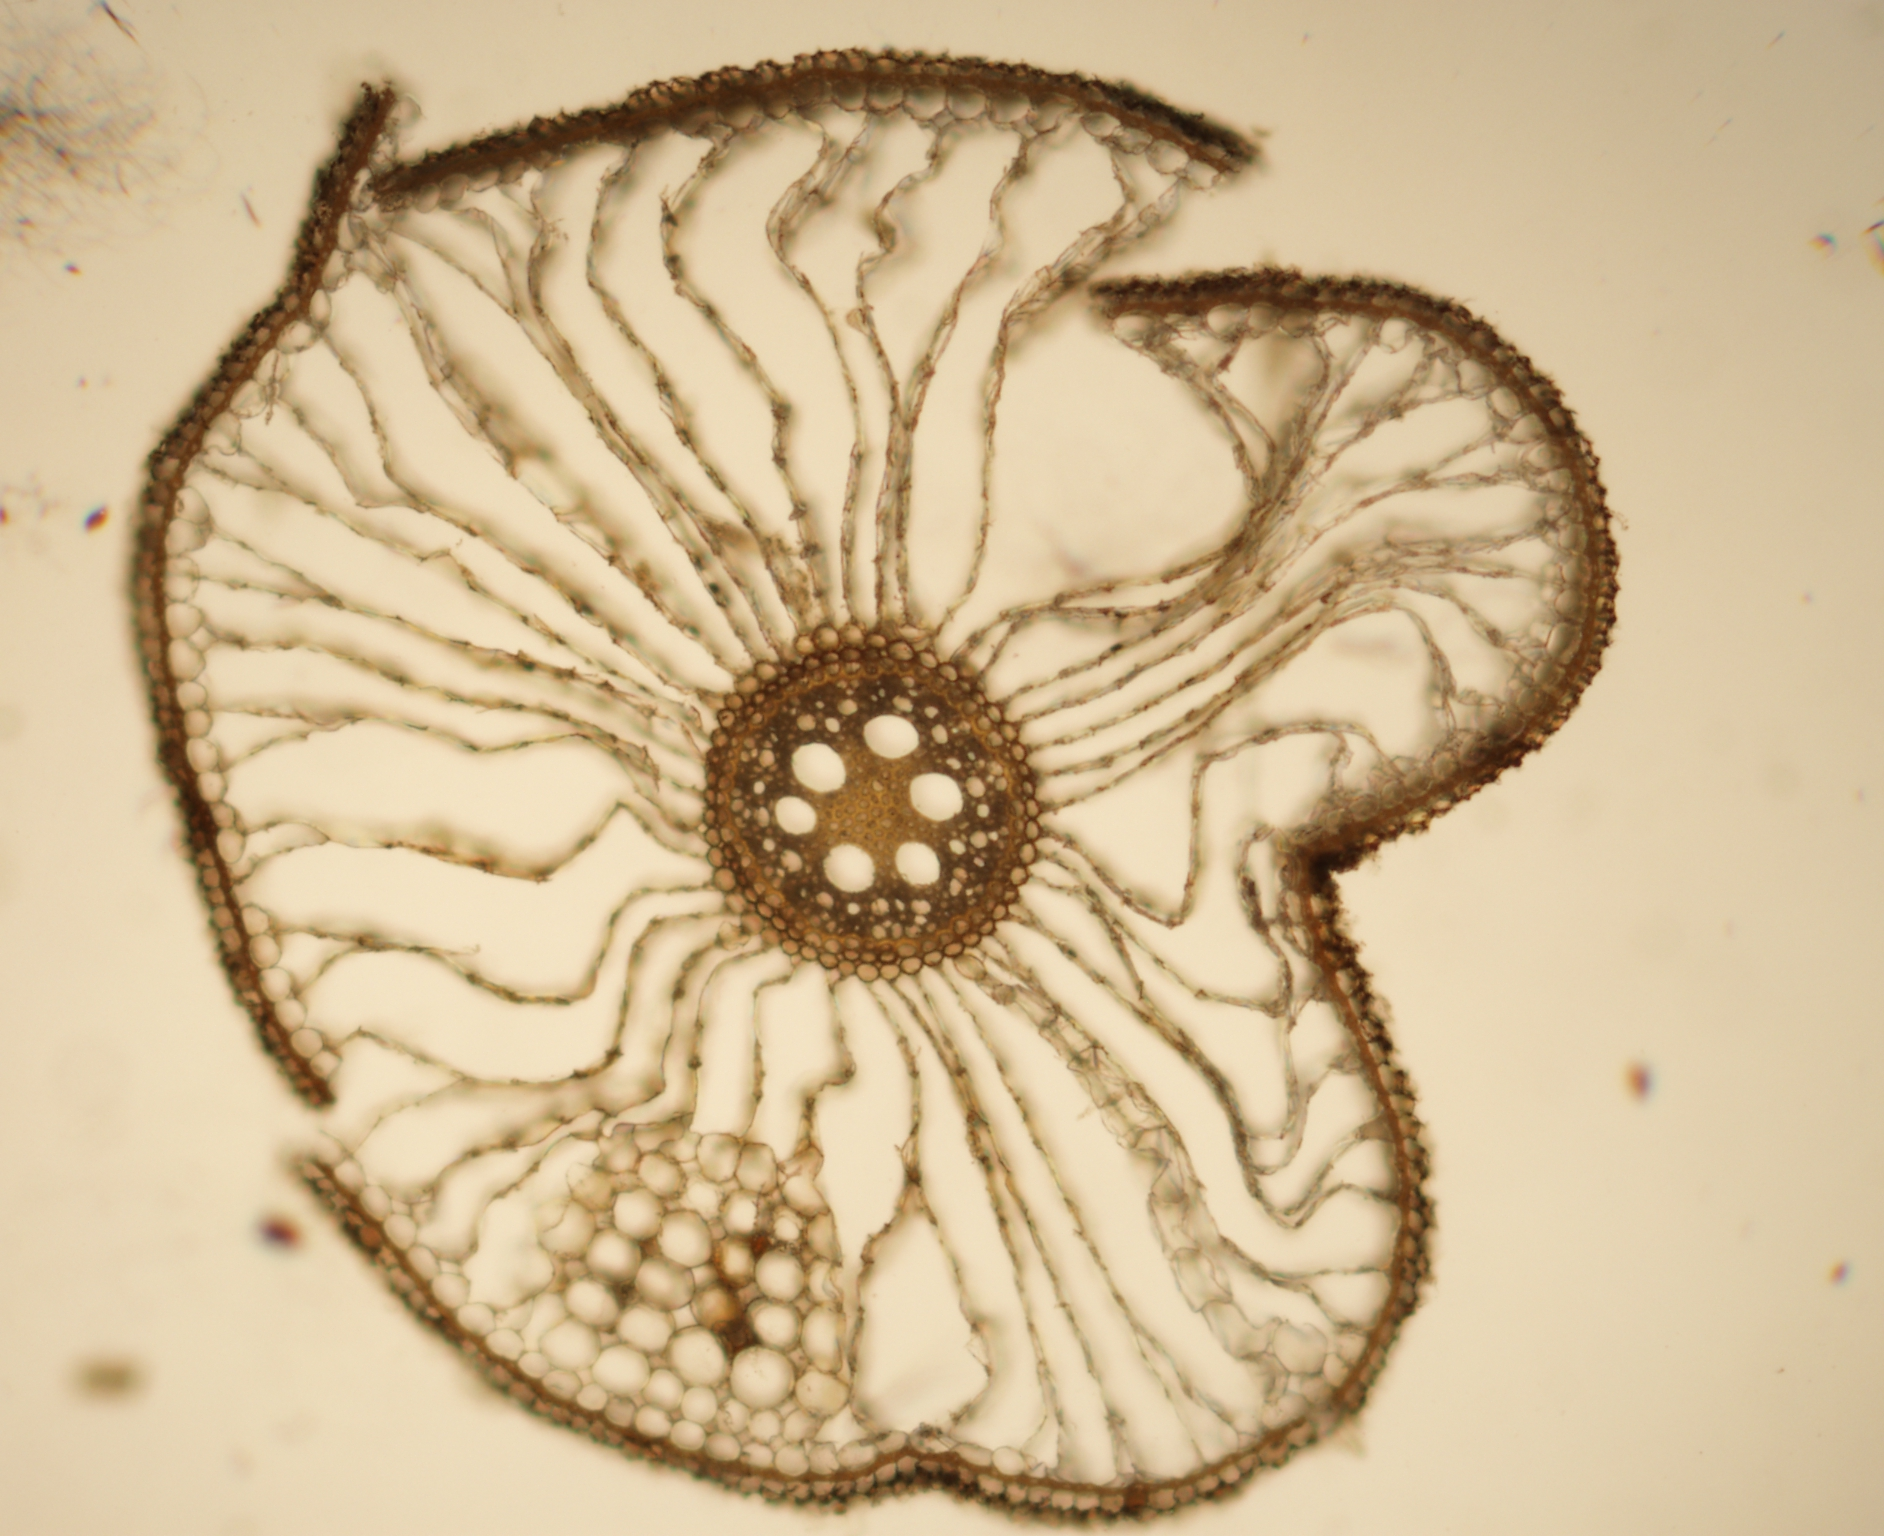lm: (792, 741, 847, 791), (823, 842, 875, 892), (909, 773, 962, 821), (864, 715, 919, 759), (895, 842, 940, 887), (775, 795, 817, 835)
